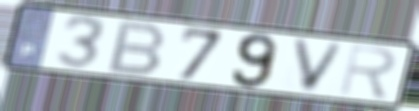3: (53, 13, 108, 72)
7: (177, 24, 226, 83)
9: (228, 31, 283, 90)
B: (103, 19, 170, 78)
R: (336, 42, 400, 101)
V: (290, 36, 349, 96)
